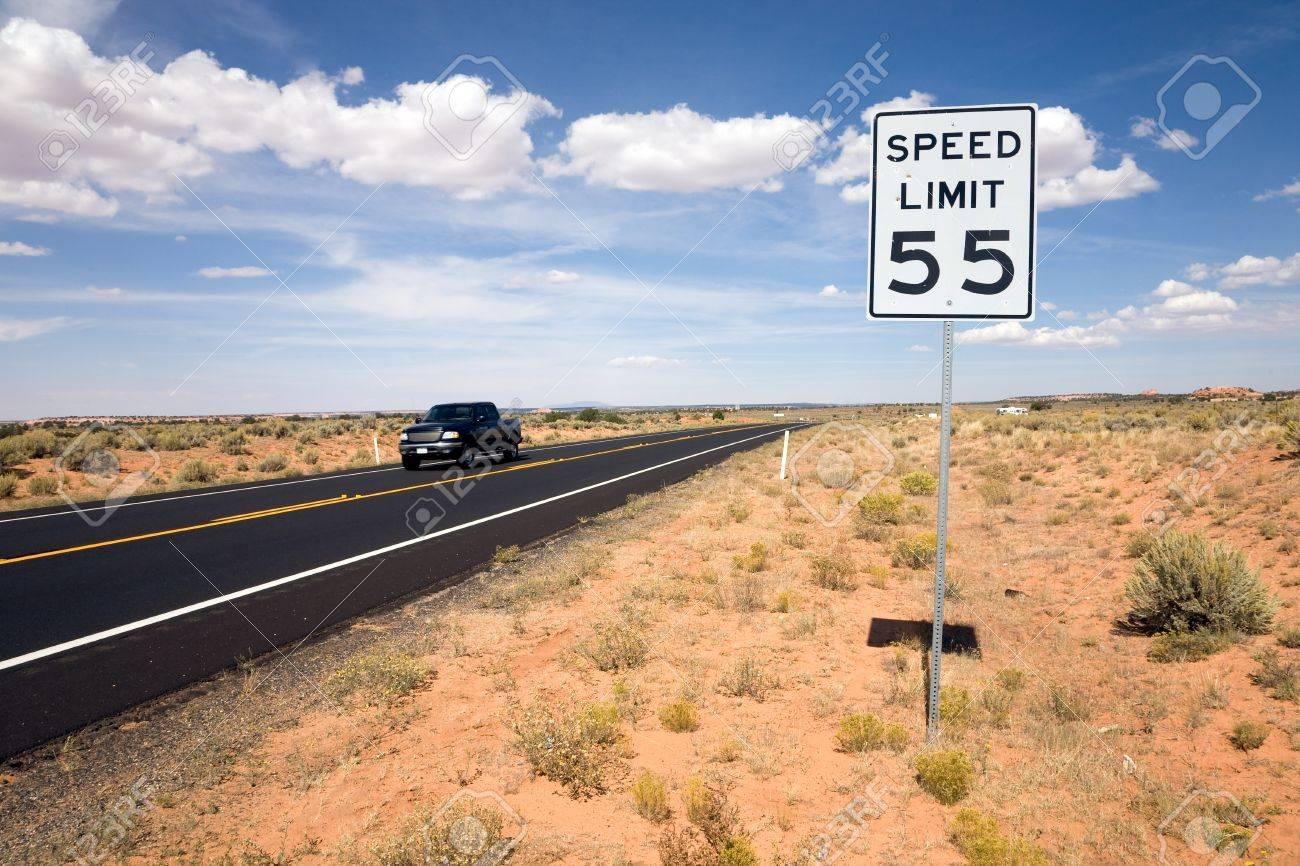speed limit: (793, 63, 1119, 403)
